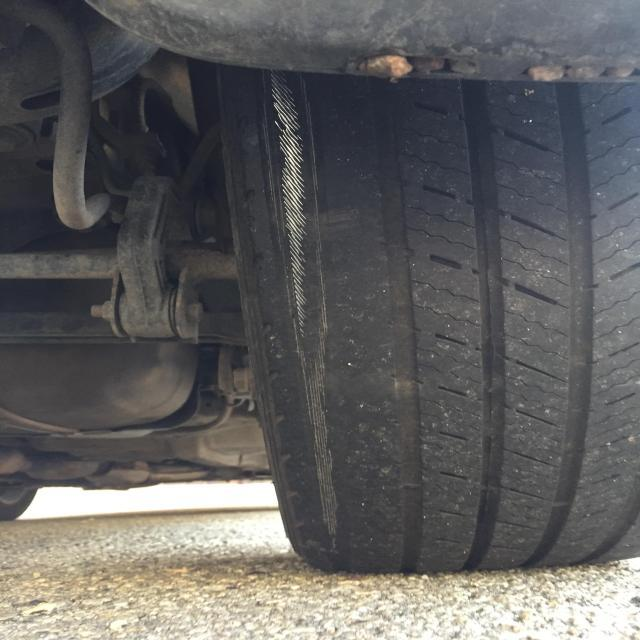Flat spots: (297, 95, 639, 549)
